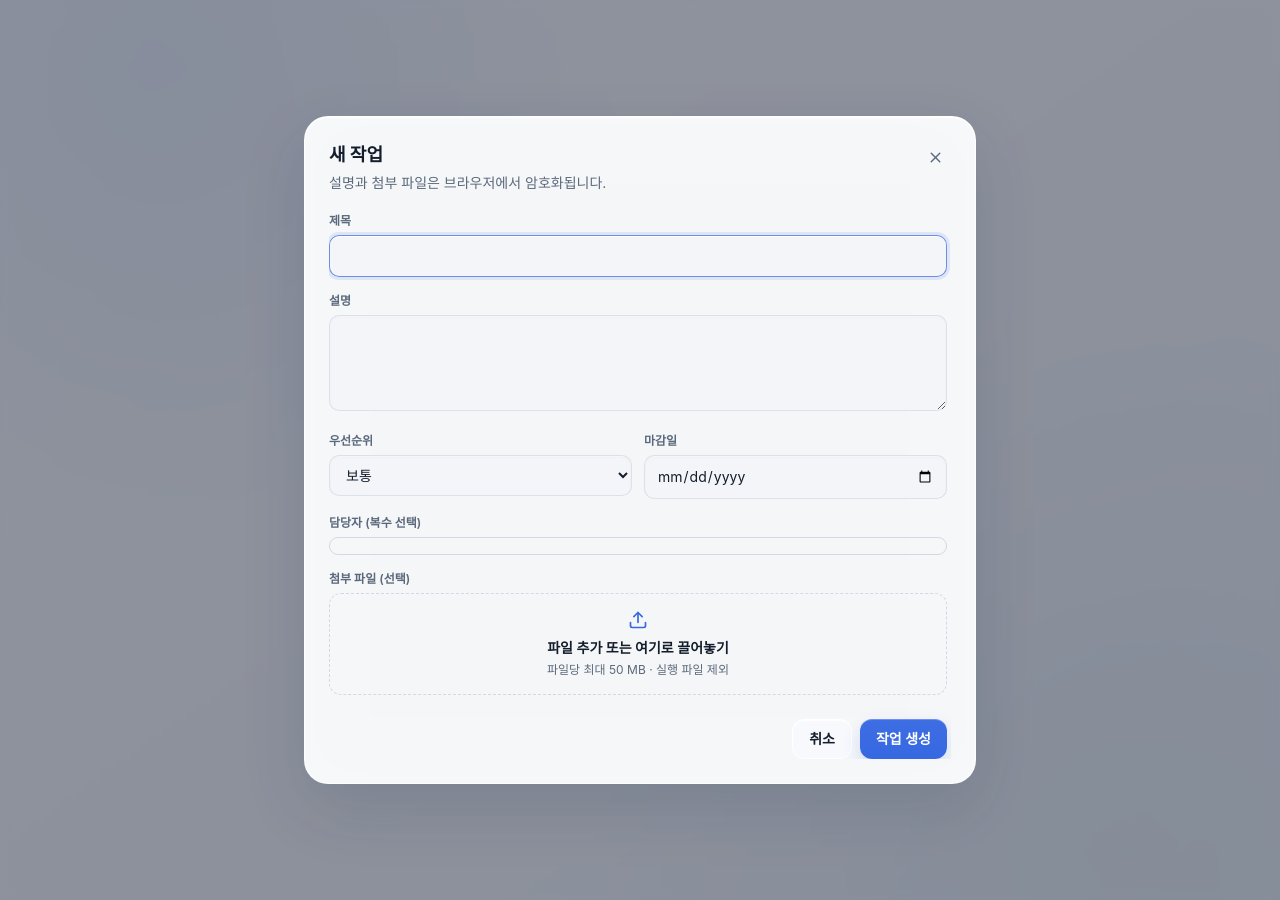
board task creation UX › keeps the modal input and shows an error Toast when creation fails
Type "수정할 작업" into the field labelled "제목" at (638, 256), box [329,235,947,277]
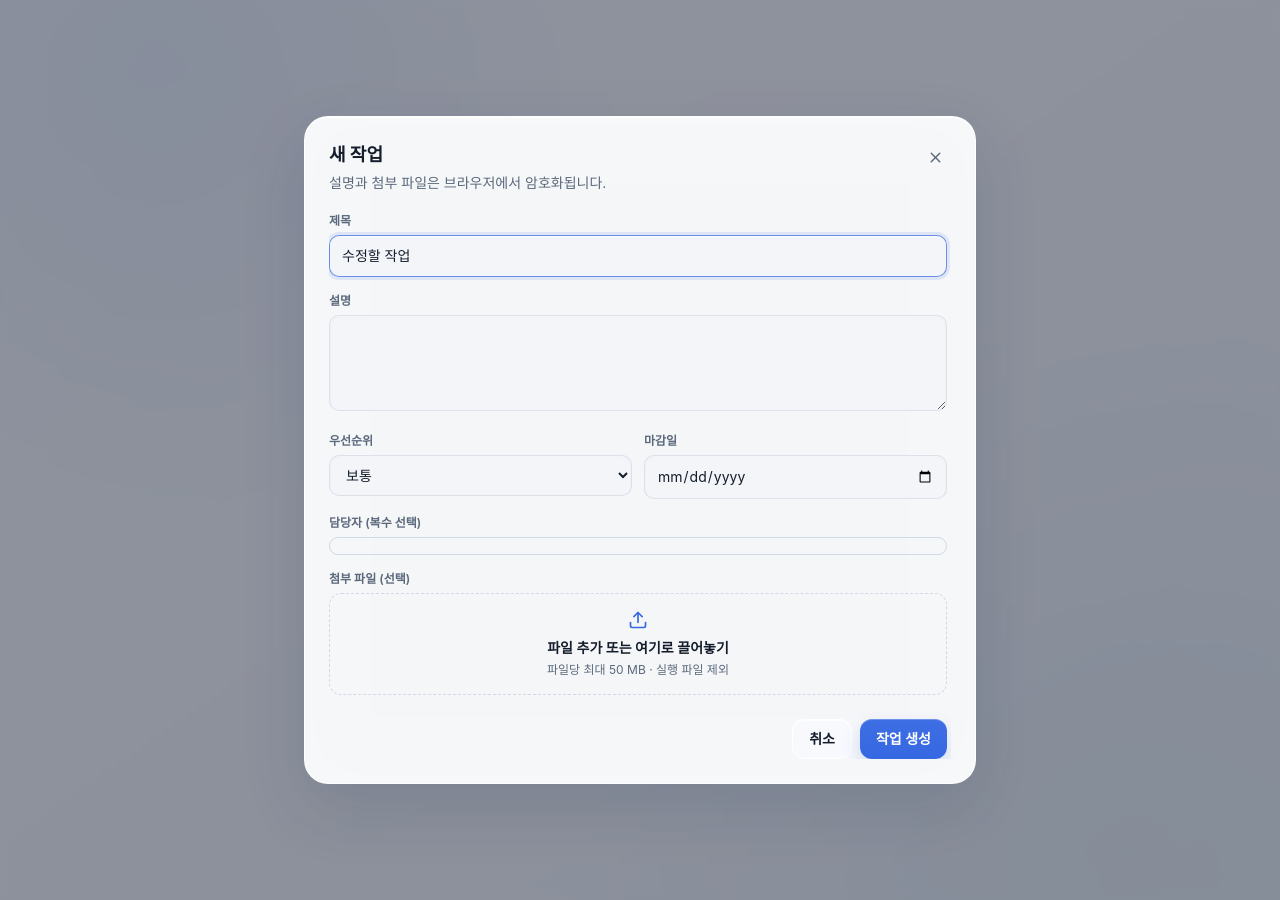
Type "입력 유지" into the text box labelled "설명" at (638, 363), box [329,315,947,411]
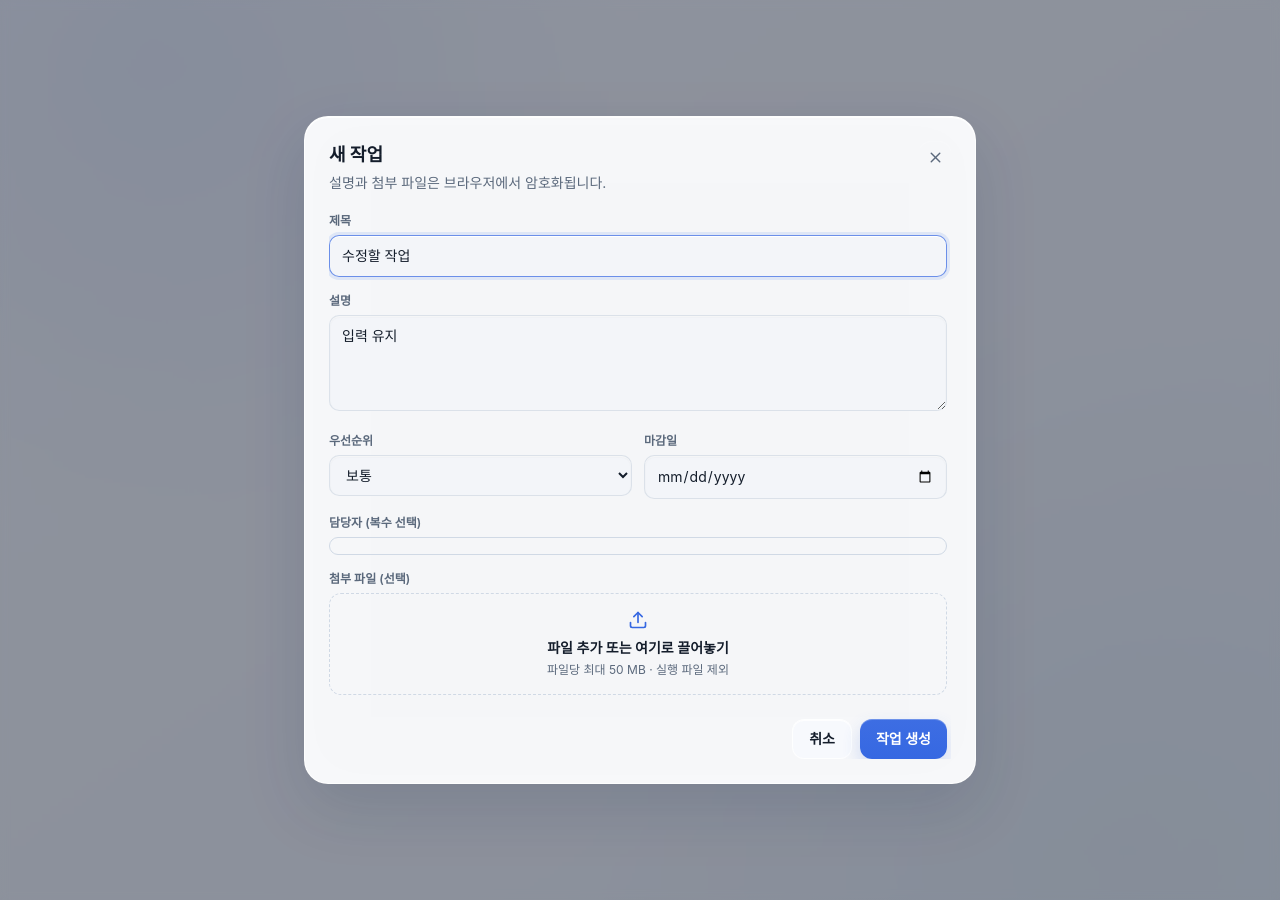
Click the button "작업 생성" at (903, 739), box [860,719,947,759]
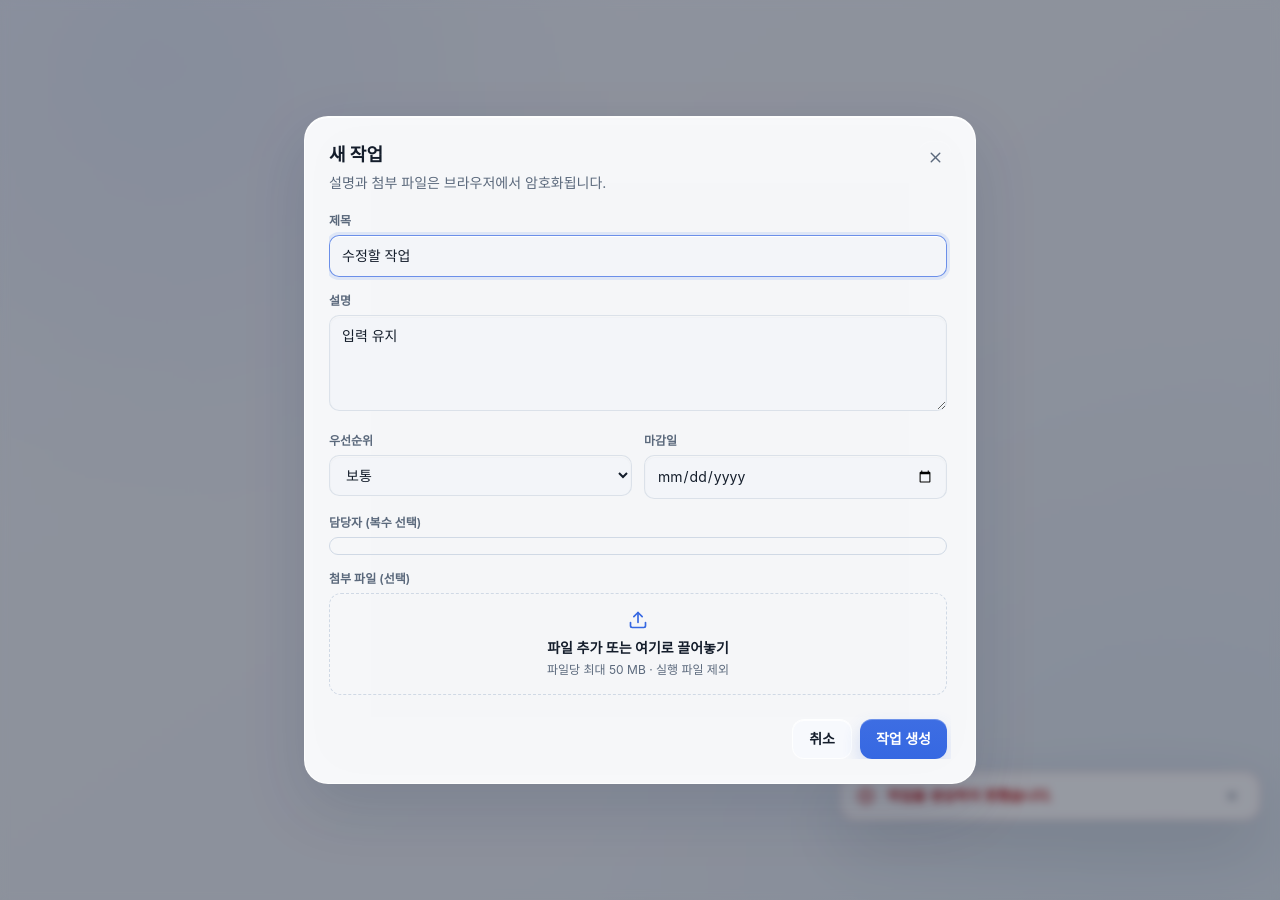
Expected: the text "작업을 생성하지 못했습니다." is shown, [887,787,1053,804]
